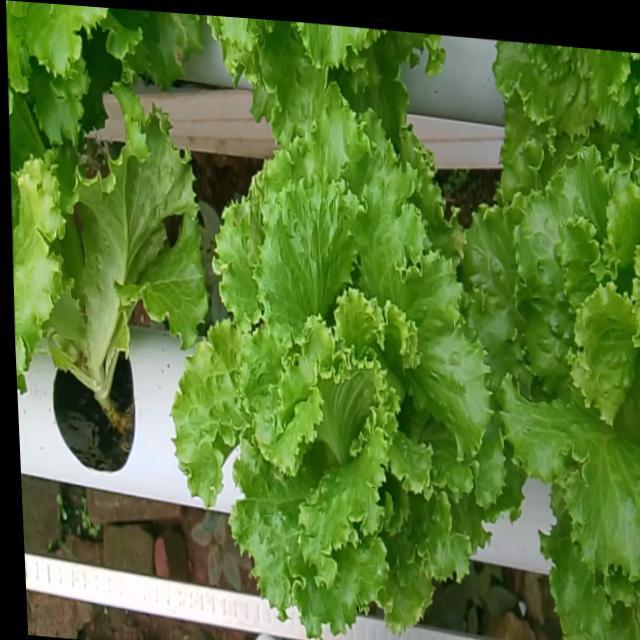Mature: (156, 104, 492, 639), (452, 147, 640, 593)
